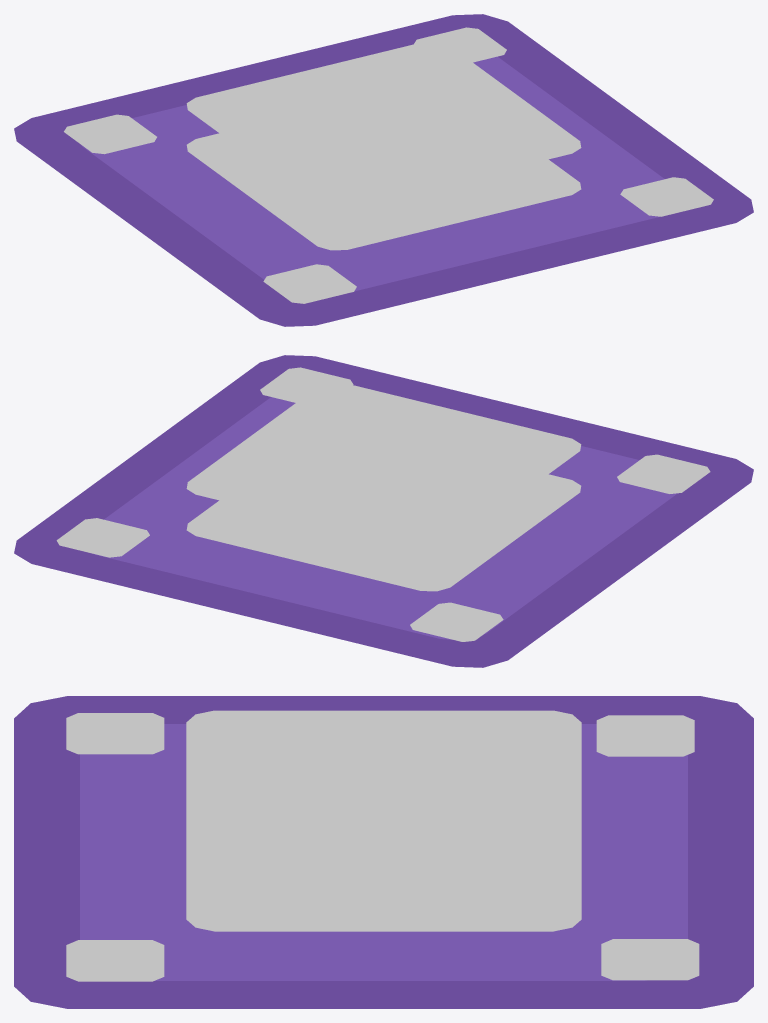
The model's file is BC_cookrecipe_S_05.fbx.
The picture shows the model from 3 angles, top to bottom: view 1: azimuth 30°, elevation 25°; view 2: azimuth 150°, elevation 25°; view 3: azimuth 270°, elevation 25°; orthographic projection. The views are drawn at different scales.
Parts seen in each view (by area): view 1: base, base3, base4, base2, base1, base8, base7, base5, base6; view 2: base, base3, base4, base2, base1, base6, base8, base5, base7; view 3: base, base3, base4, base2, base1, base7, base5, base6, base8.
Part boxes in pixels (x1,y1,x2,y2): base: (14, 14, 753, 326); base3: (186, 42, 581, 208); base4: (186, 133, 581, 250); base2: (257, 69, 510, 176); base1: (304, 86, 463, 153); base8: (263, 264, 356, 303); base7: (620, 177, 713, 216); base5: (64, 114, 156, 154); base6: (414, 27, 506, 62); base: (14, 355, 753, 667); base3: (186, 383, 581, 549); base4: (186, 474, 581, 591); base2: (257, 410, 510, 517); base1: (304, 427, 463, 494); base6: (56, 518, 149, 557); base8: (617, 454, 710, 493); base5: (410, 602, 503, 641); base7: (260, 367, 353, 402); base: (14, 696, 753, 1008); base3: (186, 710, 581, 877); base4: (186, 866, 581, 931); base2: (257, 737, 510, 844); base1: (304, 753, 463, 820); base7: (66, 940, 164, 981); base5: (596, 715, 694, 756); base6: (601, 939, 699, 980); base8: (66, 713, 164, 754).
Bounding box in the file's own units: 3.5 × 0.3415 × 3.5.
